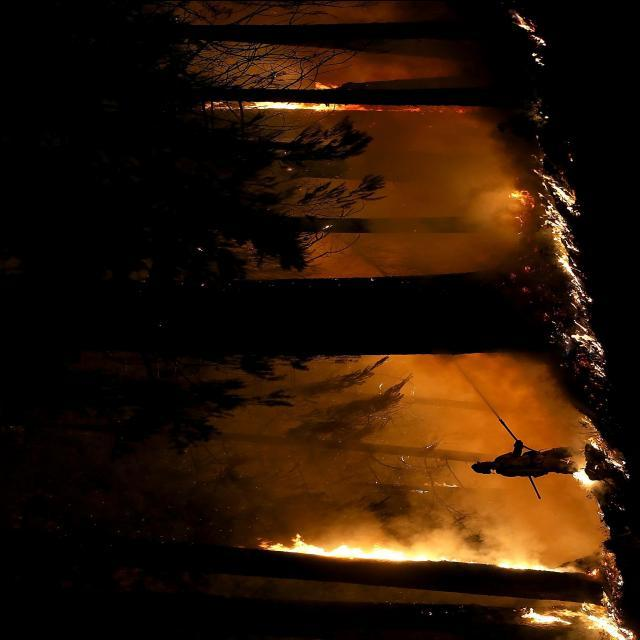Fire: (249, 532, 631, 638), (508, 158, 596, 364), (193, 79, 414, 119)
